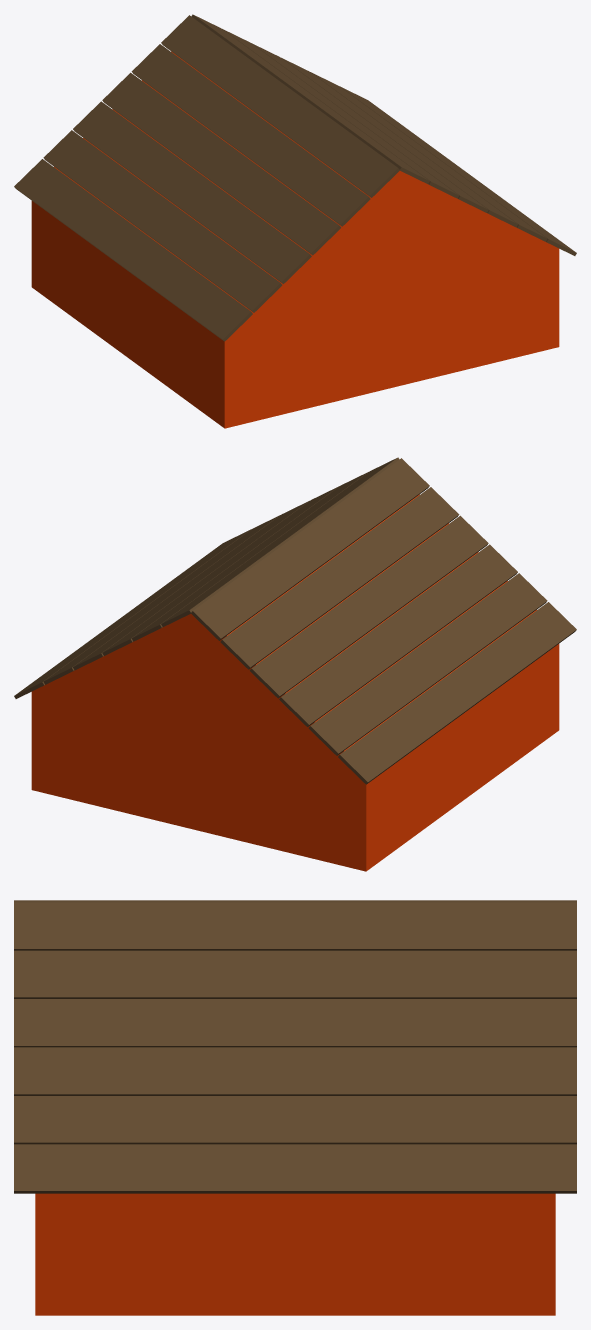
Rendered from Roof.fbx.
3 renders of one model, top to bottom at view 1: azimuth 30°, elevation 25°; view 2: azimuth 150°, elevation 25°; view 3: azimuth 270°, elevation 25°, orthographic. The views are drawn at different scales.
Visible parts, largest first — view 1: RoofBase; view 2: RoofBase; view 3: RoofBase.
Part boxes in pixels (<box>): RoofBase: <box>14,14,576,428</box>; RoofBase: <box>14,457,576,871</box>; RoofBase: <box>14,900,576,1315</box>.
Size of the model in its own units: 106 by 64.55 by 108.
